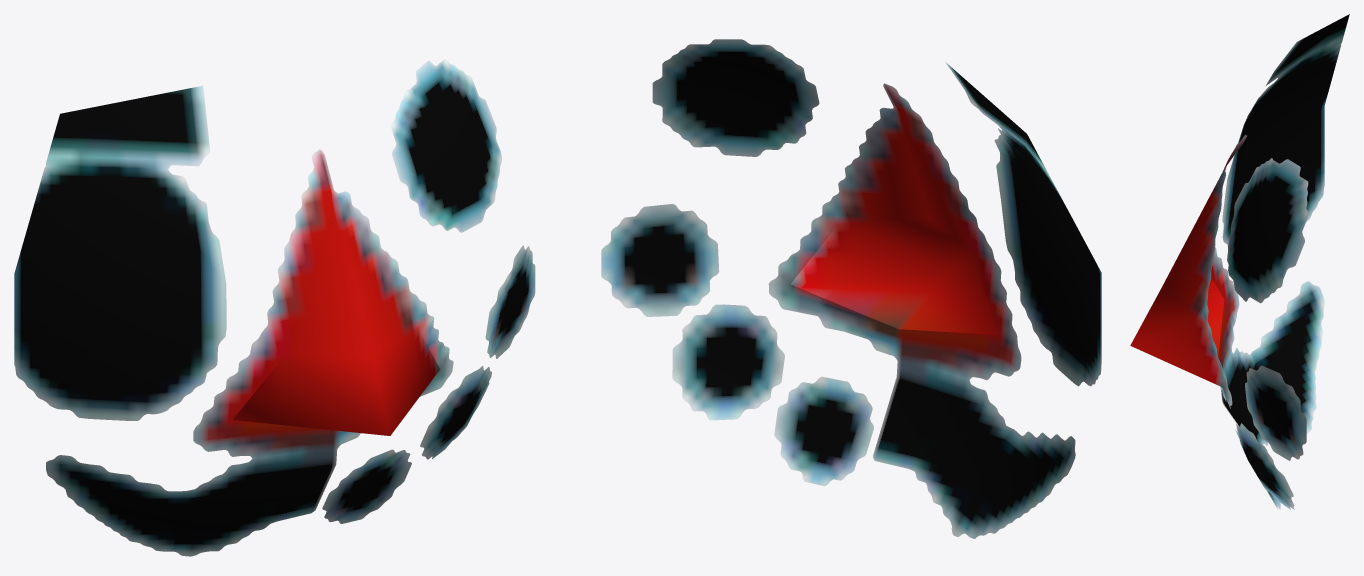
The model's file is snowball_faceC.dae.
3 renders of one model, left to right at view 1: azimuth 30°, elevation 25°; view 2: azimuth 150°, elevation 25°; view 3: azimuth 270°, elevation 25°, orthographic. The views are drawn at different scales.
Parts seen in each view (by area): view 1: snowball_faceC; view 2: snowball_faceC; view 3: snowball_faceC.
Boxes of the visible parts, x1,y1,x2,y2 form: snowball_faceC: (14, 59, 535, 556); snowball_faceC: (601, 39, 1101, 538); snowball_faceC: (1130, 14, 1349, 509).
Size of the model in its own units: 23.74 by 20.59 by 9.77.
Materials: 1 (1 with a texture image).
